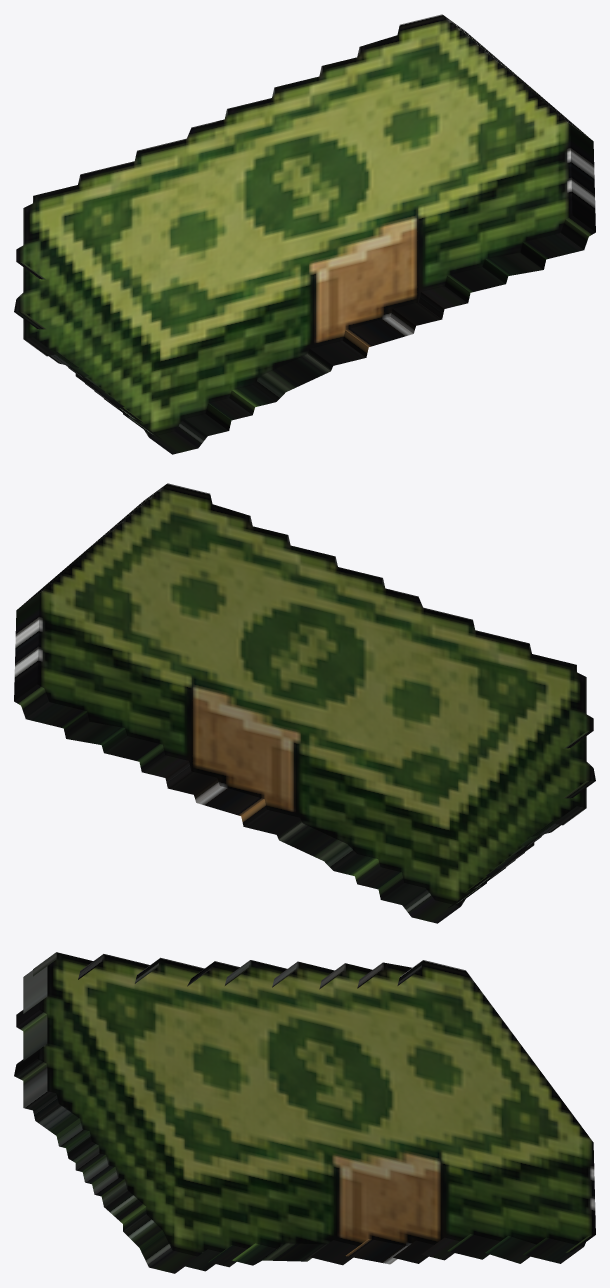
Rendered from money_small.glb.
The picture shows the model from 3 angles, top to bottom: view 1: azimuth 30°, elevation 25°; view 2: azimuth 150°, elevation 25°; view 3: azimuth 330°, elevation 25°; orthographic projection.
Parts seen in each view (by area): view 1: world; view 2: world; view 3: world.
Part boxes in pixels (left/top/right/bottom): world: left=14, top=14, right=595, bottom=454; world: left=14, top=483, right=595, bottom=923; world: left=14, top=952, right=595, bottom=1273.
Size of the model in its own units: 2.36 by 1.42 by 0.1716.
Materials: 1 (1 with a texture image).
